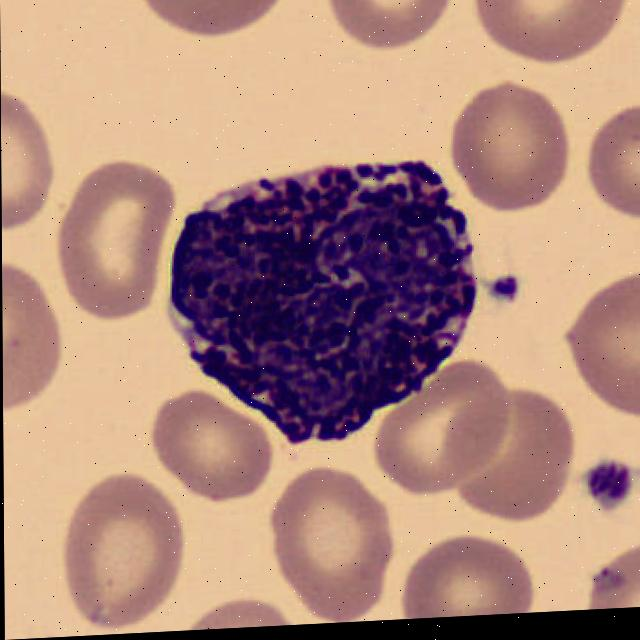basophil: (162, 154, 493, 443)
platelets: (585, 461, 635, 513)
rbc: (55, 127, 187, 330), (61, 465, 196, 627), (261, 455, 395, 617), (374, 354, 517, 505), (426, 86, 574, 214), (442, 378, 570, 520), (544, 265, 640, 425), (145, 382, 277, 496), (405, 531, 541, 619), (1, 63, 70, 233), (2, 252, 72, 401), (461, 0, 634, 59), (577, 94, 640, 218), (308, 0, 458, 51), (130, 0, 287, 43), (180, 585, 301, 631), (582, 533, 640, 609)
